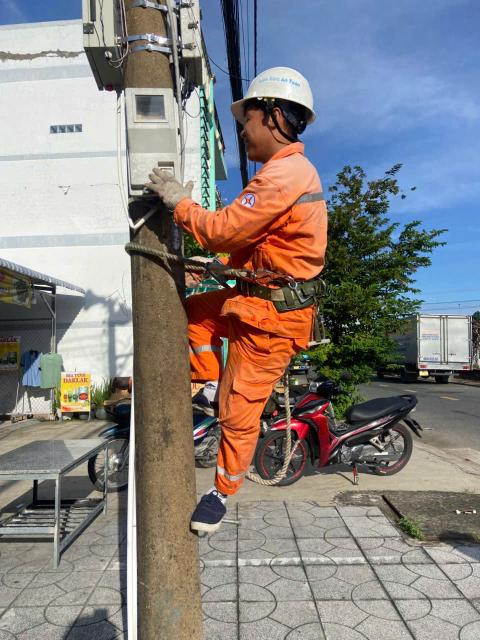gloves: (136, 146, 198, 218)
harness: (202, 254, 335, 318)
helmet: (232, 40, 323, 130)
shoes: (187, 486, 245, 547), (178, 374, 232, 421)
